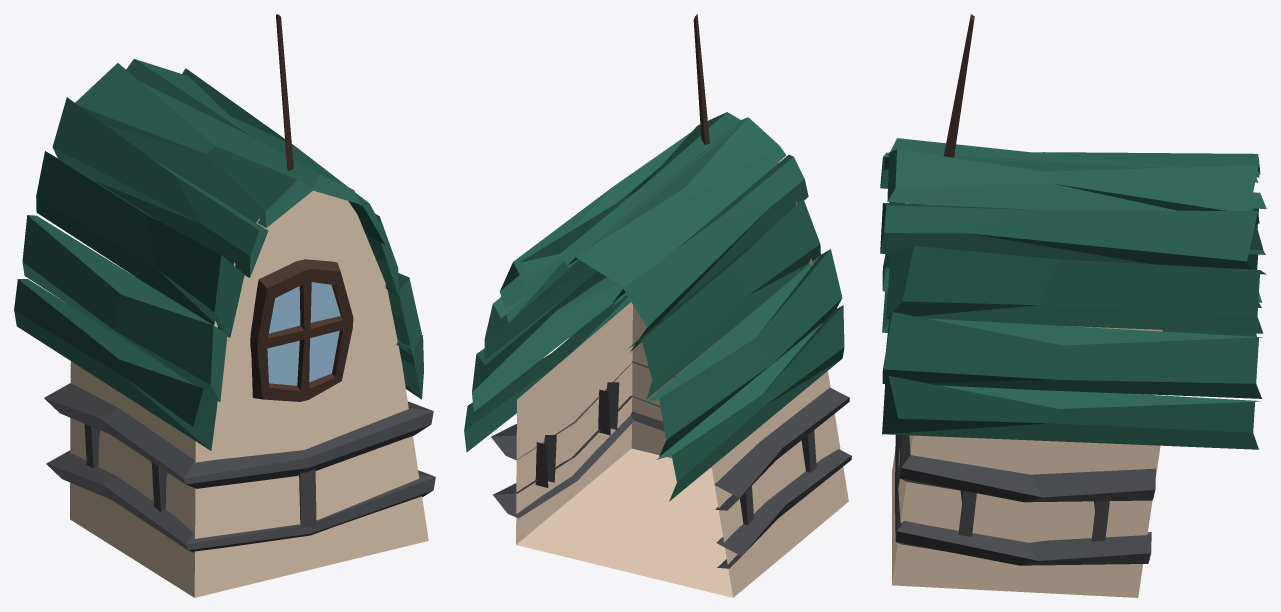
The model's file is SM_L_G_Home_Pop_Up_curve_Window.fbx.
3 views of the same model, side by side, from view 1: azimuth 30°, elevation 25°; view 2: azimuth 150°, elevation 25°; view 3: azimuth 270°, elevation 25° (orthographic). The views are drawn at different scales.
Parts seen in each view (by area): view 1: SM_L_G_Home_Window_Popup_curve; view 2: SM_L_G_Home_Window_Popup_curve; view 3: SM_L_G_Home_Window_Popup_curve.
Boxes of the visible parts, left/top/right/bottom form: SM_L_G_Home_Window_Popup_curve: left=14, top=14, right=435, bottom=597; SM_L_G_Home_Window_Popup_curve: left=464, top=14, right=851, bottom=597; SM_L_G_Home_Window_Popup_curve: left=880, top=14, right=1266, bottom=597.
Bounding box in the file's own units: 1.92 × 3.66 × 2.42.
Materials: 1 (1 with a texture image).
